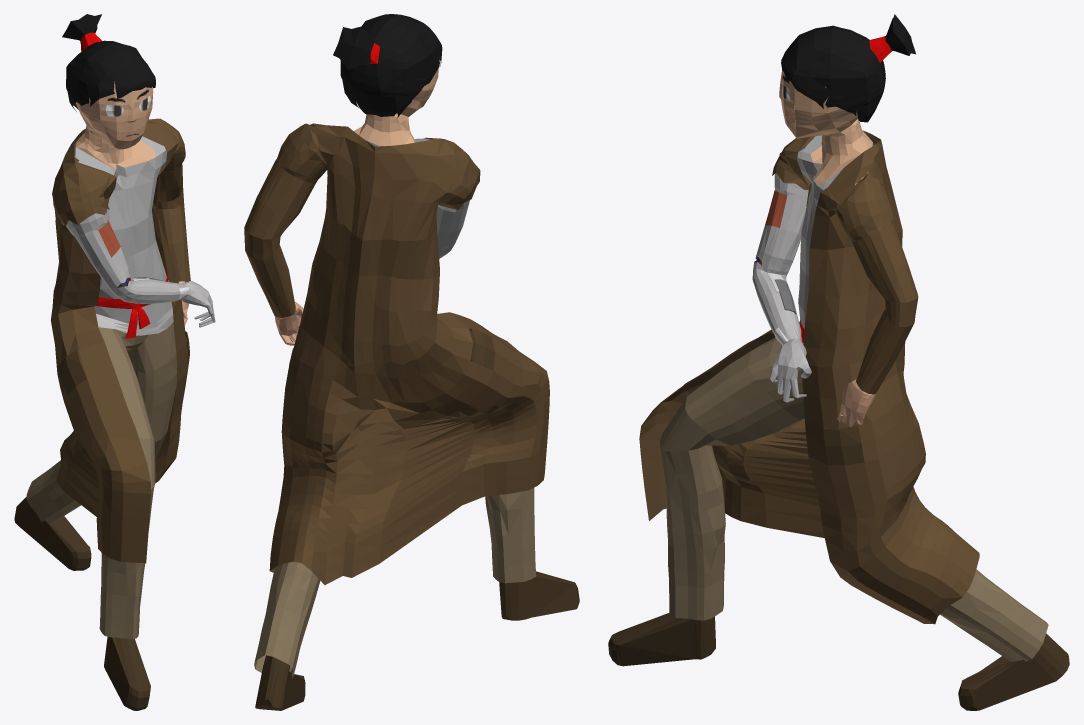
Rendered from One_DL_000010.obj.
3 views of the same model, side by side, from view 1: azimuth 30°, elevation 25°; view 2: azimuth 150°, elevation 25°; view 3: azimuth 270°, elevation 25° (orthographic). The views are drawn at different scales.
Visible parts, largest first — view 1: Hair_Cube.004; view 2: Hair_Cube.004; view 3: Hair_Cube.004.
Boxes of the visible parts, box(x1,y1,x2,y2) form: Hair_Cube.004: box(14, 14, 215, 710); Hair_Cube.004: box(244, 14, 579, 710); Hair_Cube.004: box(608, 14, 1069, 710).
Size of the model in its own units: 1.15 by 3.66 by 2.24.
